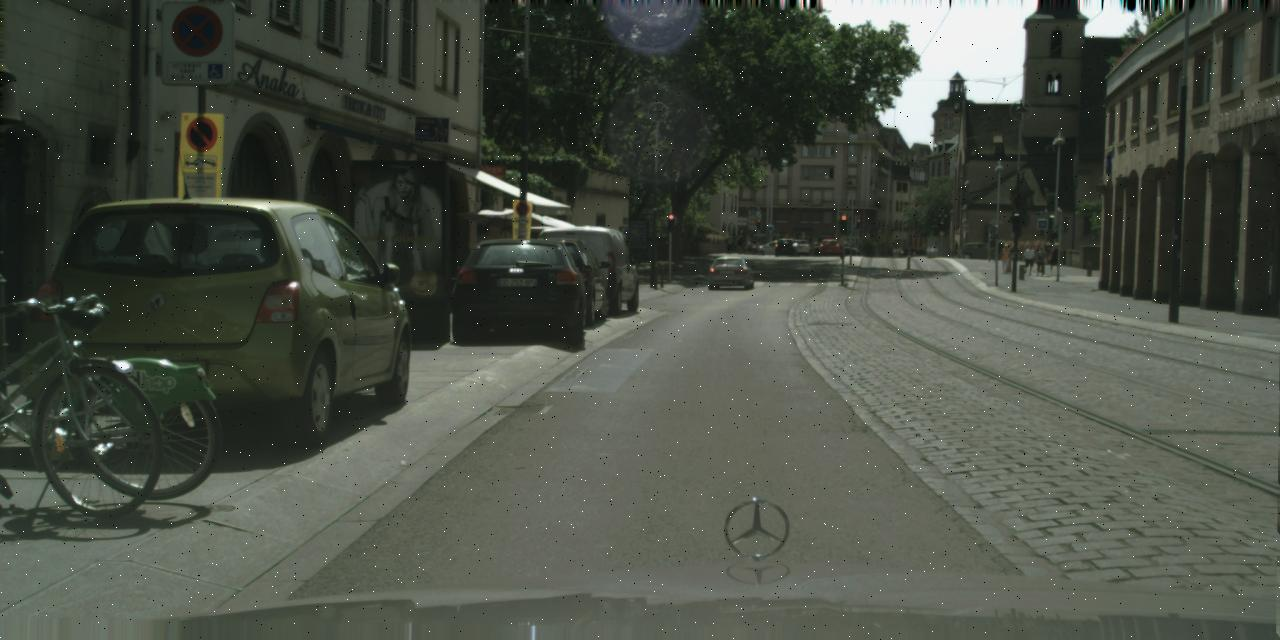ped: (1049, 242, 1061, 274), (999, 243, 1011, 274), (1022, 244, 1034, 274), (1035, 248, 1045, 274), (988, 235, 998, 261), (782, 234, 790, 254), (725, 233, 733, 253), (996, 240, 1003, 260), (736, 236, 743, 253), (952, 241, 958, 256)
